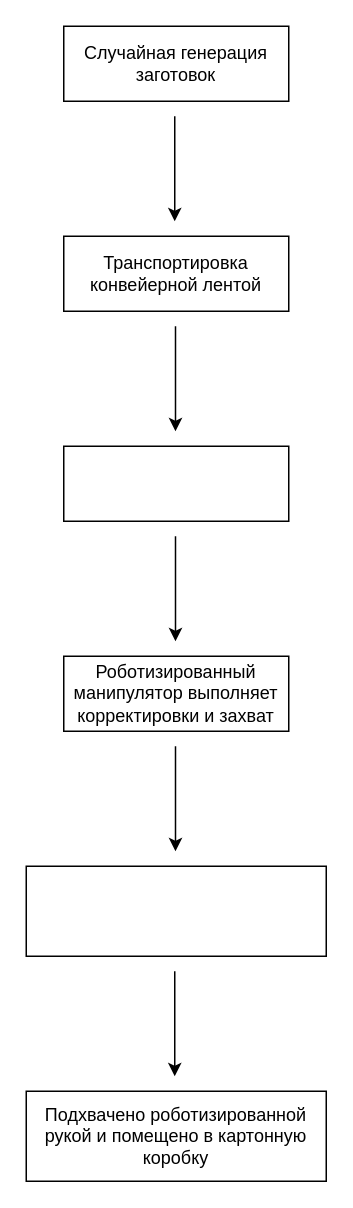
Image size: 353x1208. Some labels were removed from this diagram. Each missing label, with the box of its shape:
Отсортированные заготовки помещаются на специальную конвейерную ленту: (25, 865, 326, 956)
Прибыть в позицию распознавания камерой: (62, 445, 289, 521)
